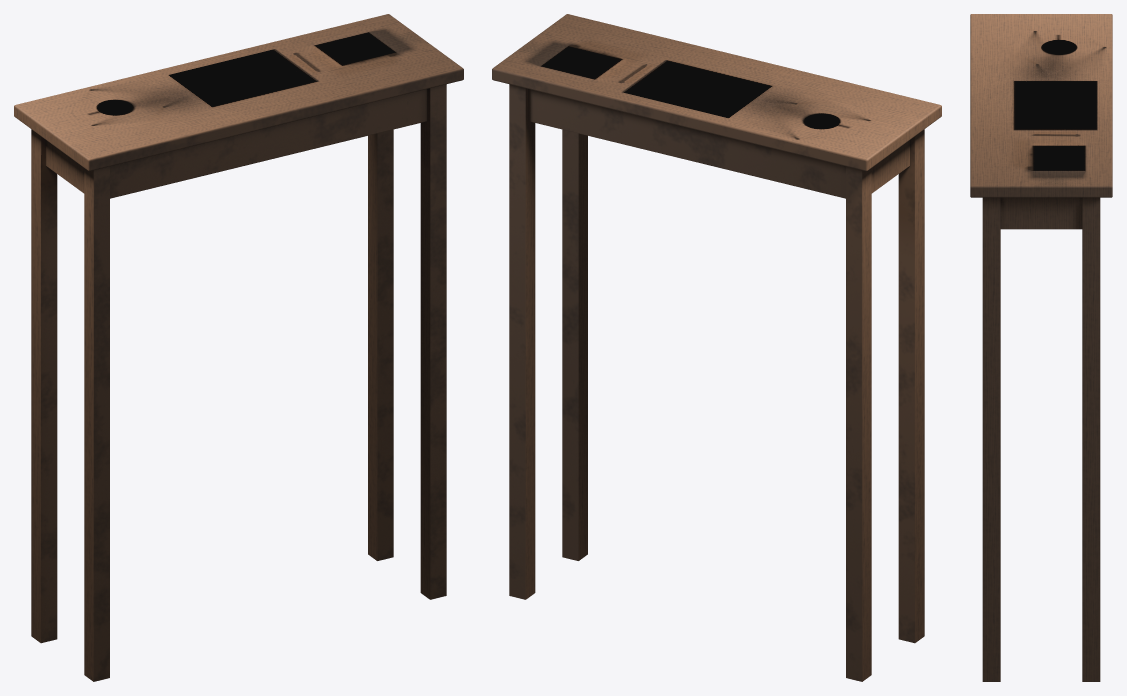
The model's file is 505_hook.glb.
The picture shows the model from 3 angles, left to right: view 1: azimuth 30°, elevation 25°; view 2: azimuth 150°, elevation 25°; view 3: azimuth 270°, elevation 25°; orthographic projection. The views are drawn at different scales.
Visible parts, largest first — view 1: Table; view 2: Table; view 3: Table.
Part boxes in pixels (x1,y1,x2,y2): Table: (14, 14, 463, 681); Table: (492, 14, 941, 681); Table: (970, 14, 1112, 681).
Size of what is drawn, in the model's own units: 2.3 by 3.1 by 0.8.
1 material, 1 textured.
